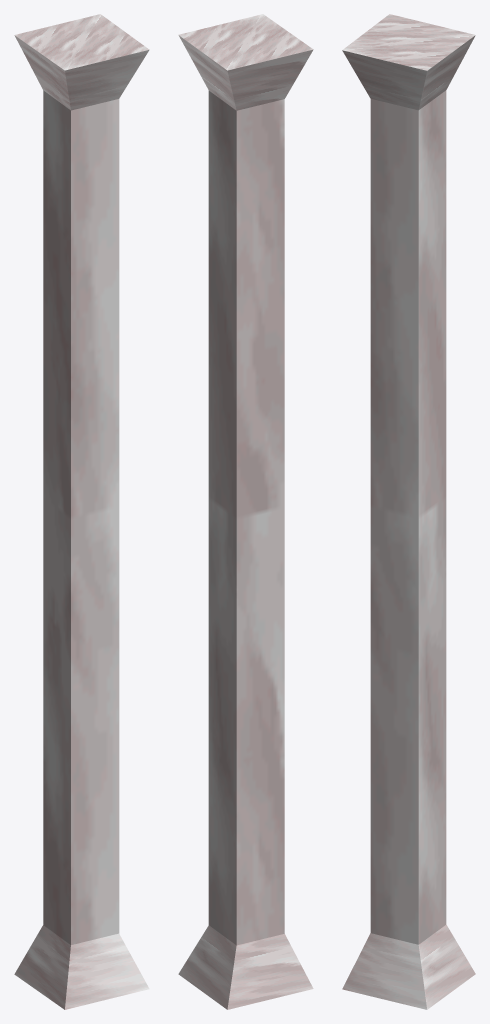
The model's file is Säule_DünnLang_2143.glb.
3 views of the same model, side by side, from view 1: azimuth 30°, elevation 25°; view 2: azimuth 210°, elevation 25°; view 3: azimuth 330°, elevation 25° (orthographic).
Visible parts, largest first — view 1: pCylinderShape220; view 2: pCylinderShape220; view 3: pCylinderShape220.
Part boxes in pixels (box(x1,y1,x2,y2)): pCylinderShape220: box(14, 14, 149, 1009); pCylinderShape220: box(178, 14, 313, 1009); pCylinderShape220: box(342, 14, 475, 1009).
Bounding box in the file's own units: 0.0749 × 0.778 × 0.0737.
Materials: 1 (1 with a texture image).
